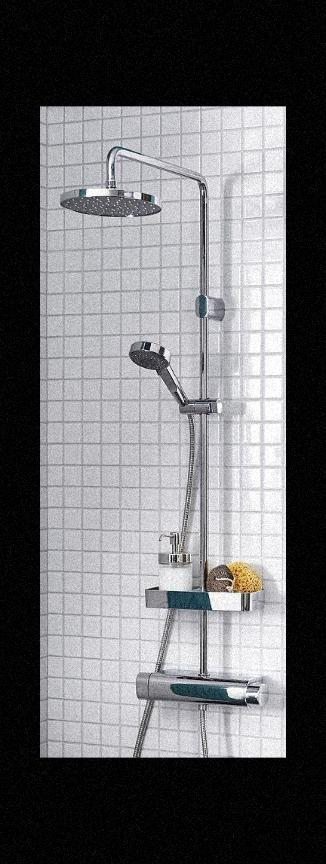Ducha: (40, 107, 285, 757)
